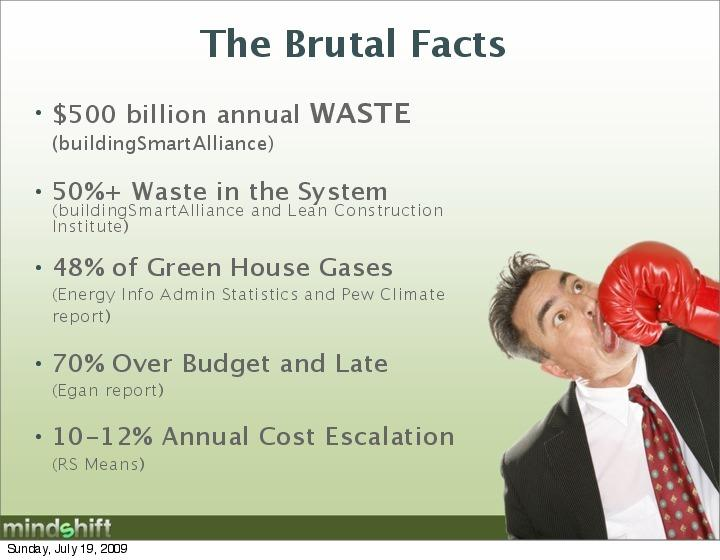paragraph: (25, 92, 488, 489)
title: (192, 14, 515, 76)
